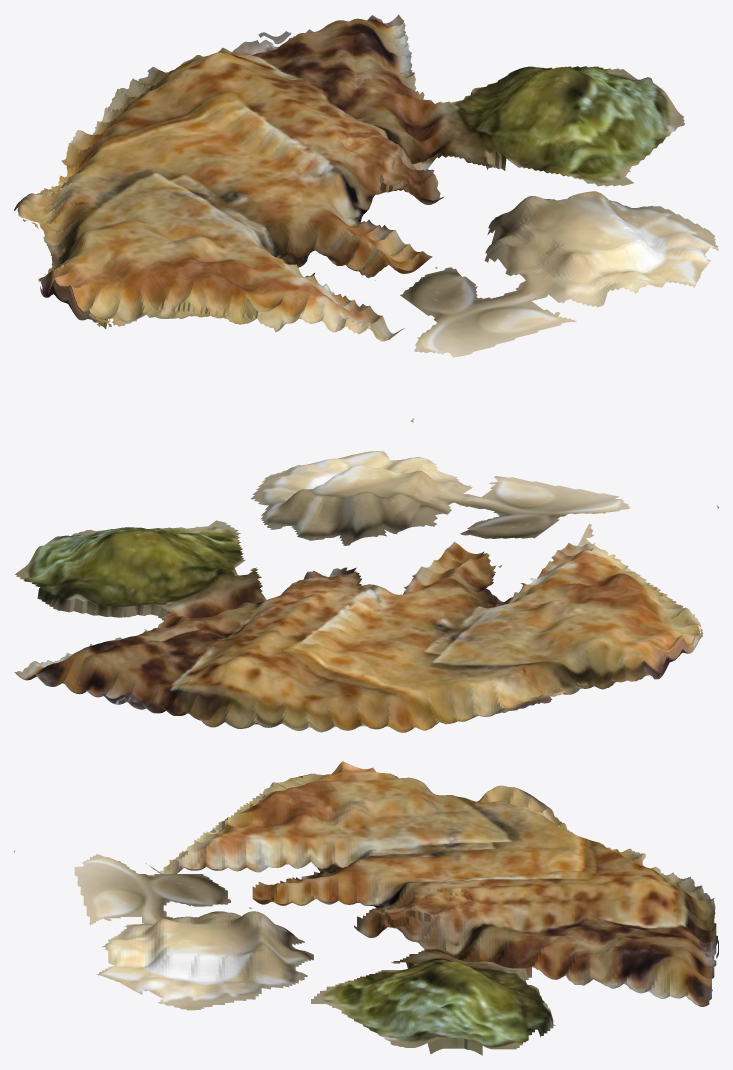
Rendered from quesadillas_fbx.fbx.
The picture shows the model from 3 angles, top to bottom: view 1: azimuth 30°, elevation 25°; view 2: azimuth 150°, elevation 25°; view 3: azimuth 270°, elevation 25°; orthographic projection. The views are drawn at different scales.
Parts seen in each view (by area): view 1: Quesadilla:Mesh; view 2: Quesadilla:Mesh; view 3: Quesadilla:Mesh.
Part boxes in pixels (x1,y1,x2,y2): Quesadilla:Mesh: (14, 14, 718, 422); Quesadilla:Mesh: (14, 451, 718, 732); Quesadilla:Mesh: (14, 761, 718, 1055).
Bounding box in the file's own units: 123 × 11.19 × 133.
Materials: 1 (1 with a texture image).
